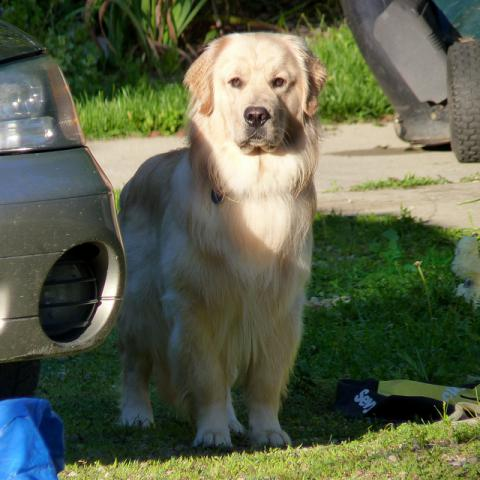car: (0, 19, 124, 401)
